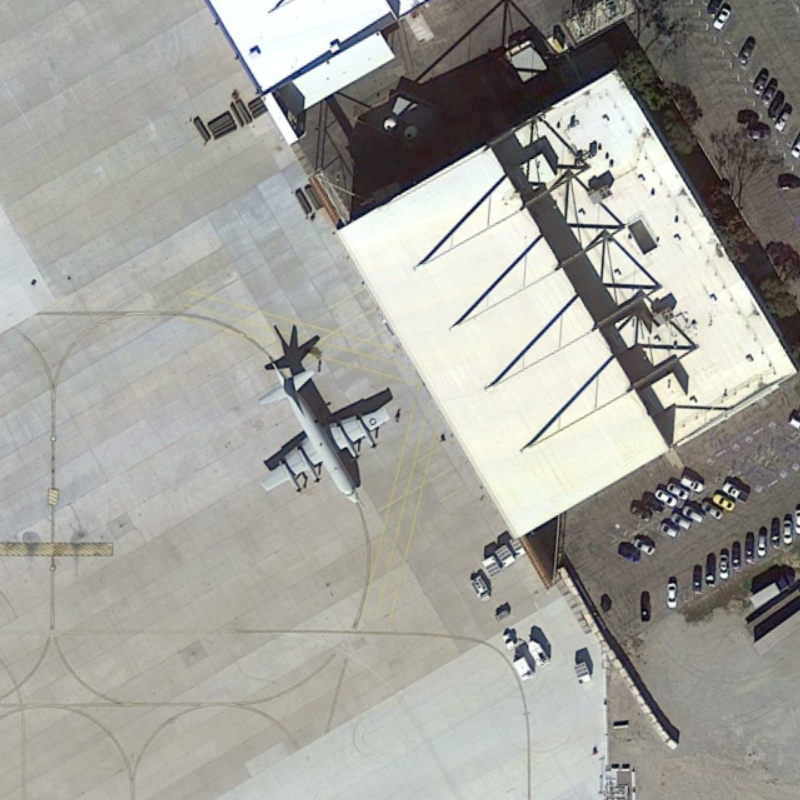A9: (250, 345, 396, 505)
